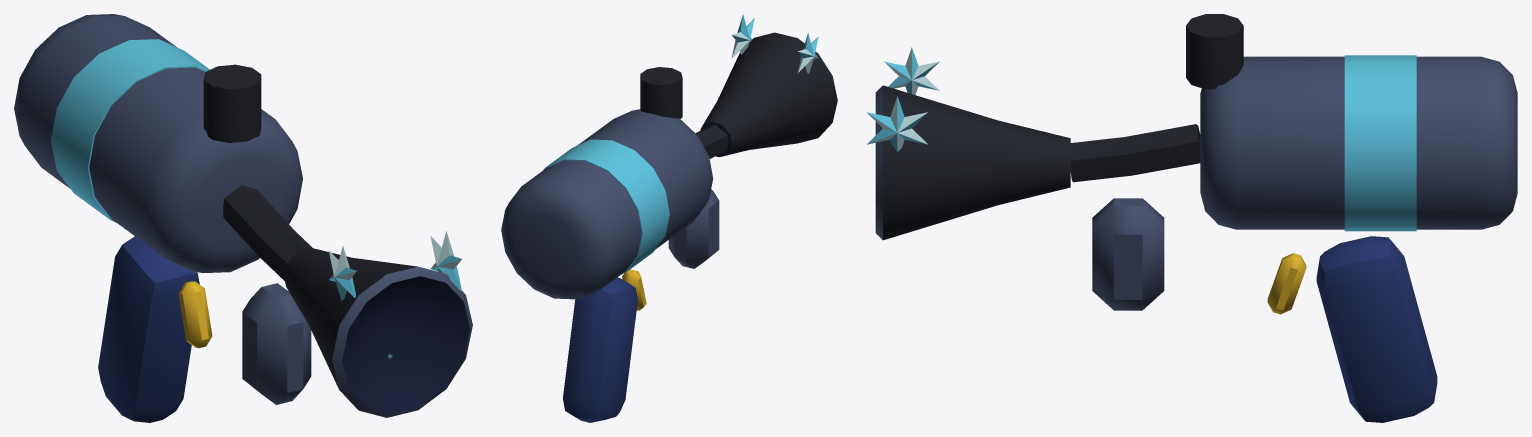
File: w_m_ice.glb
3 views of the same model, side by side, from view 1: azimuth 30°, elevation 25°; view 2: azimuth 150°, elevation 25°; view 3: azimuth 270°, elevation 25° (orthographic). The views are drawn at different scales.
Parts seen in each view (by area): view 1: body; view 2: body; view 3: body.
Part boxes in pixels (bbox=[...]): body: bbox=[14, 14, 472, 422]; body: bbox=[501, 14, 837, 422]; body: bbox=[866, 14, 1517, 422].
Bounding box in the file's own units: 0.183 × 0.4511 × 0.6775.
